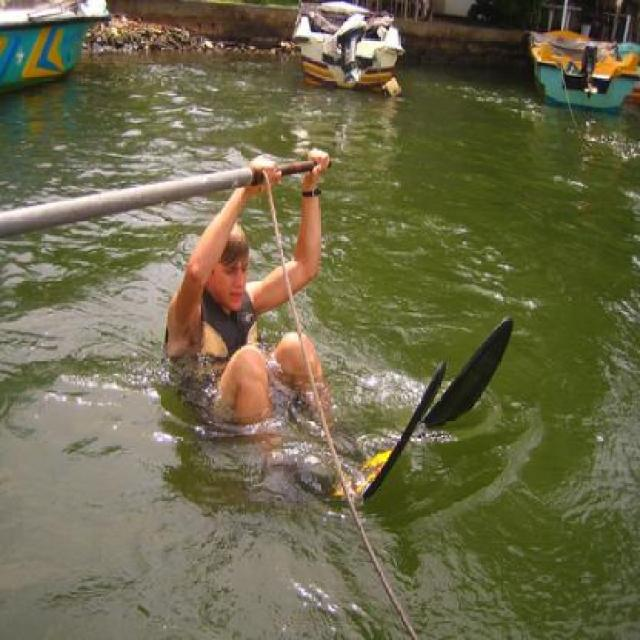ship: (280, 3, 418, 105), (513, 5, 633, 114)
